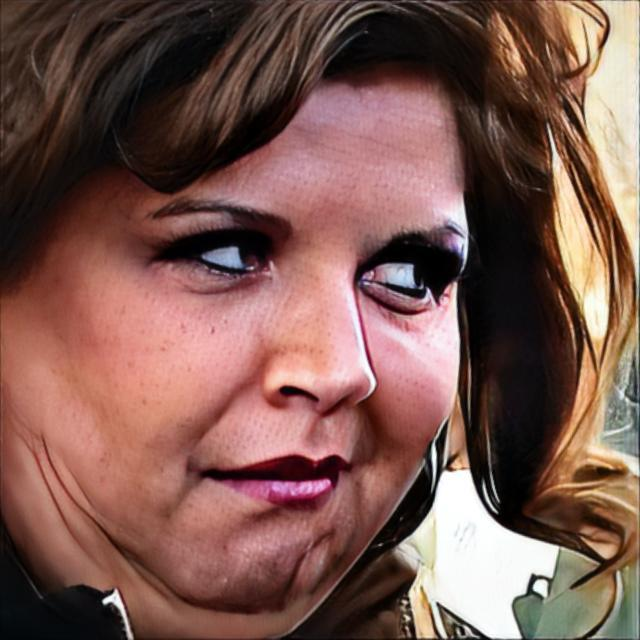content: (44, 43, 474, 640)
